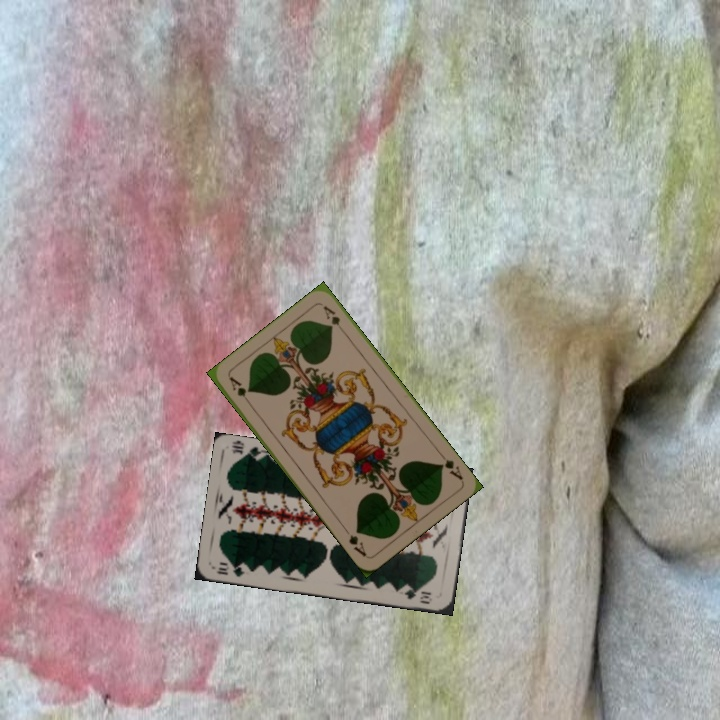G10: (212, 558, 247, 579)
GA: (435, 449, 466, 483), (225, 373, 254, 408)
